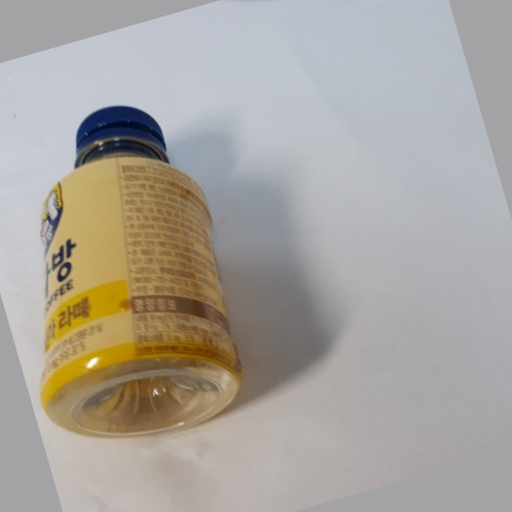Plastic_0: (37, 104, 246, 441)
